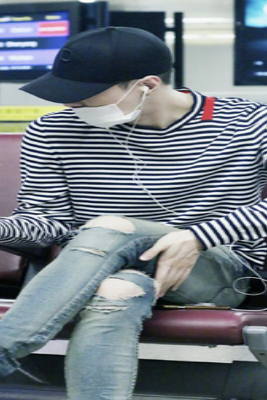mask_weared_incorrect: (64, 84, 140, 131)
